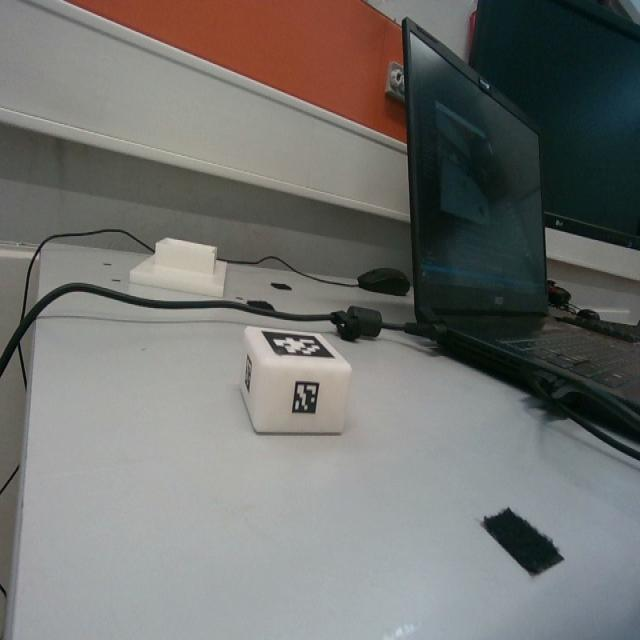Cube: (242, 324, 350, 433)
